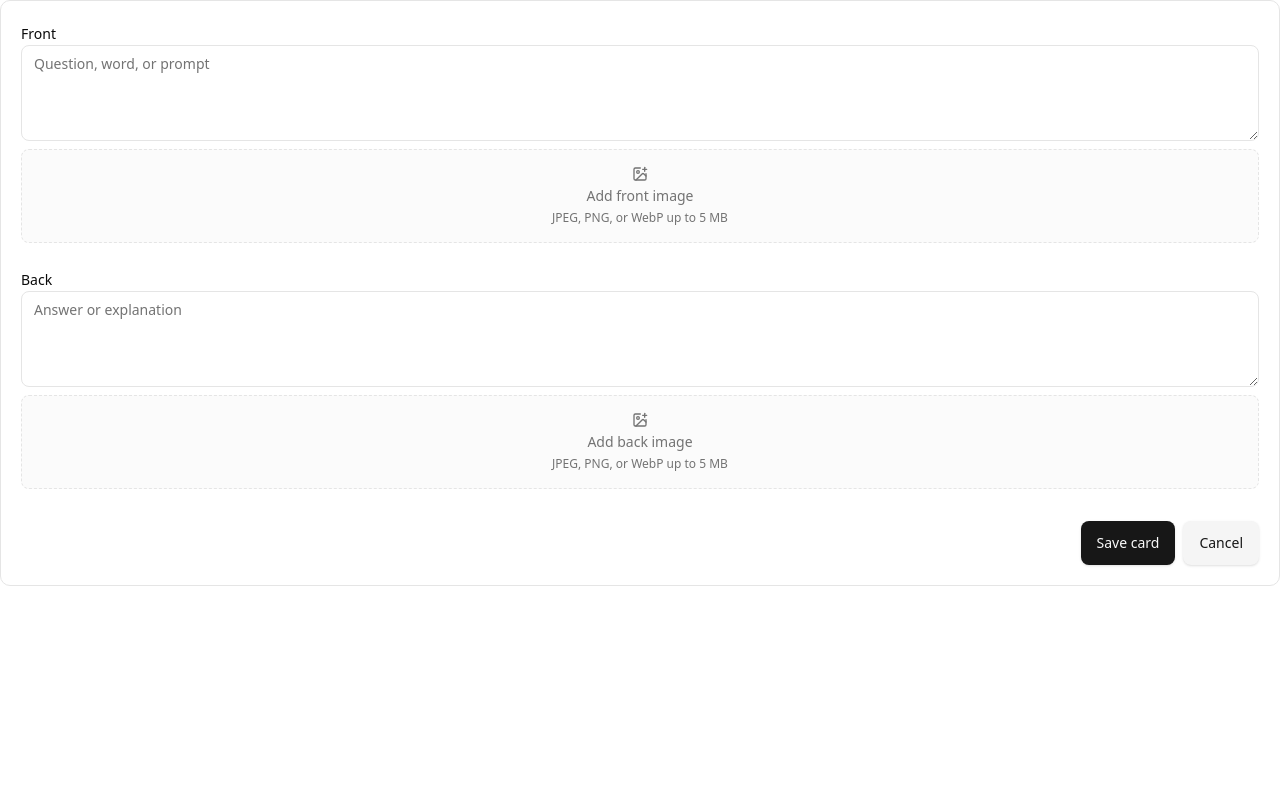
CardForm › shows an inline error when card creation fails
Type "front" into the text box labelled "Front".
click(640, 93); type("front")  # box [21,45,1259,141]
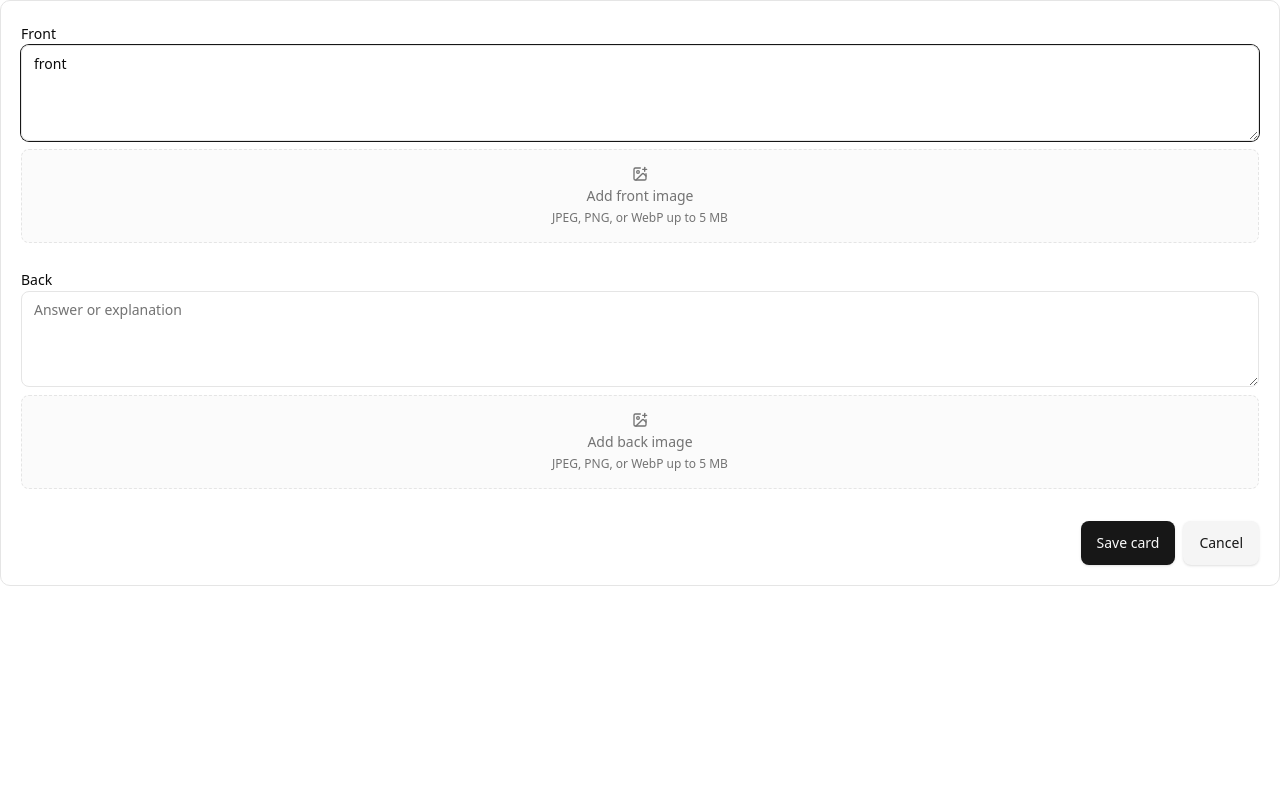
Type "back" into the text box labelled "Back".
click(640, 339); type("back")  # box [21,291,1259,387]
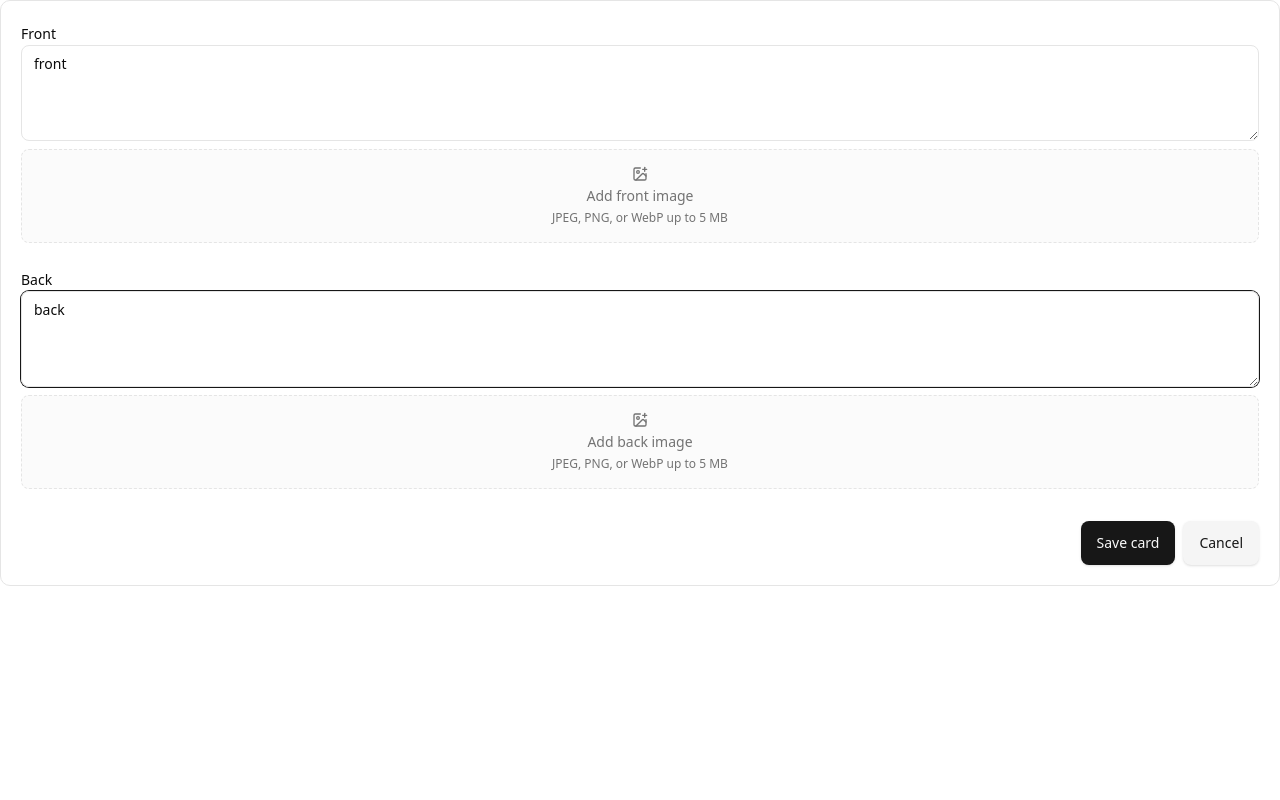
Click the button "Save card".
click(1128, 543)  # box [1080,521,1175,565]
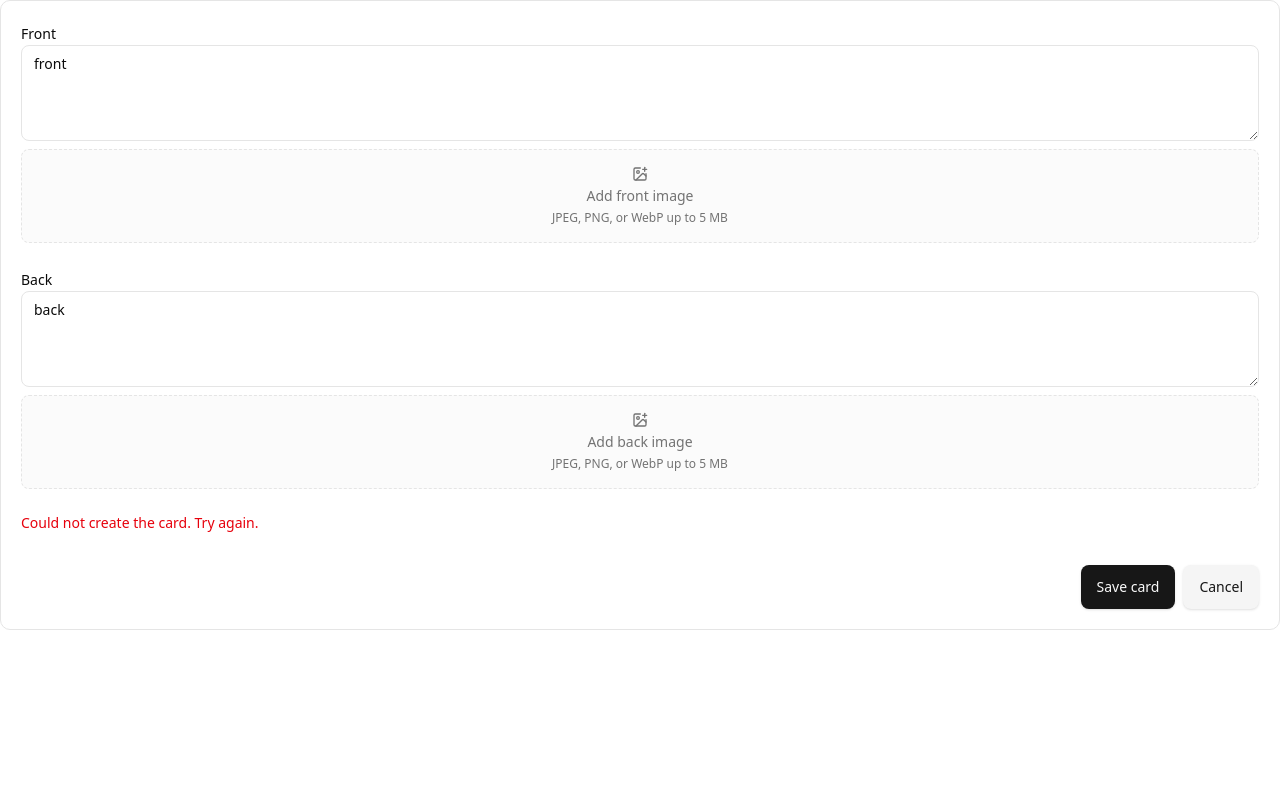
Result: the message reads "Could not create the card. Try again." at [21,513,258,532]
